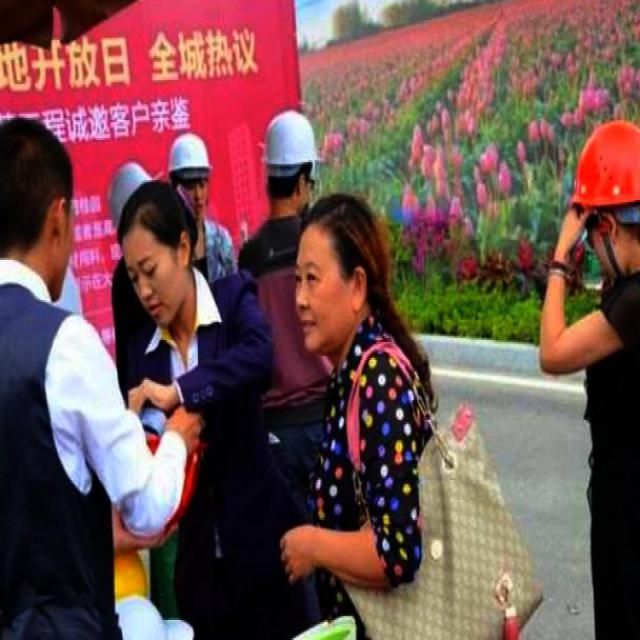helmet: (560, 126, 639, 272), (254, 96, 329, 222), (155, 114, 225, 212)
